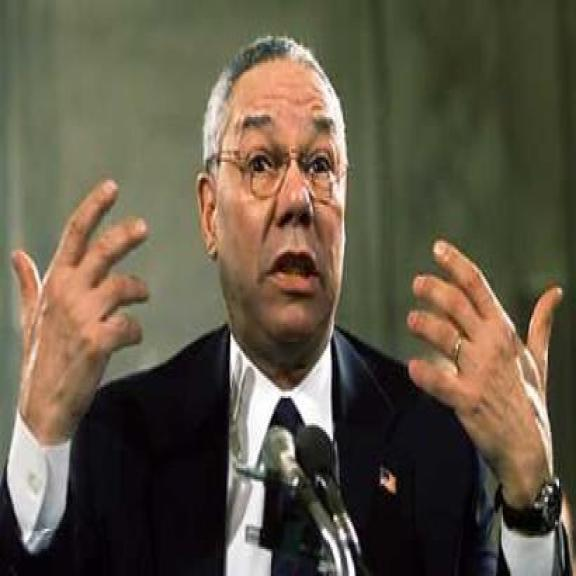face: (190, 54, 346, 353)
